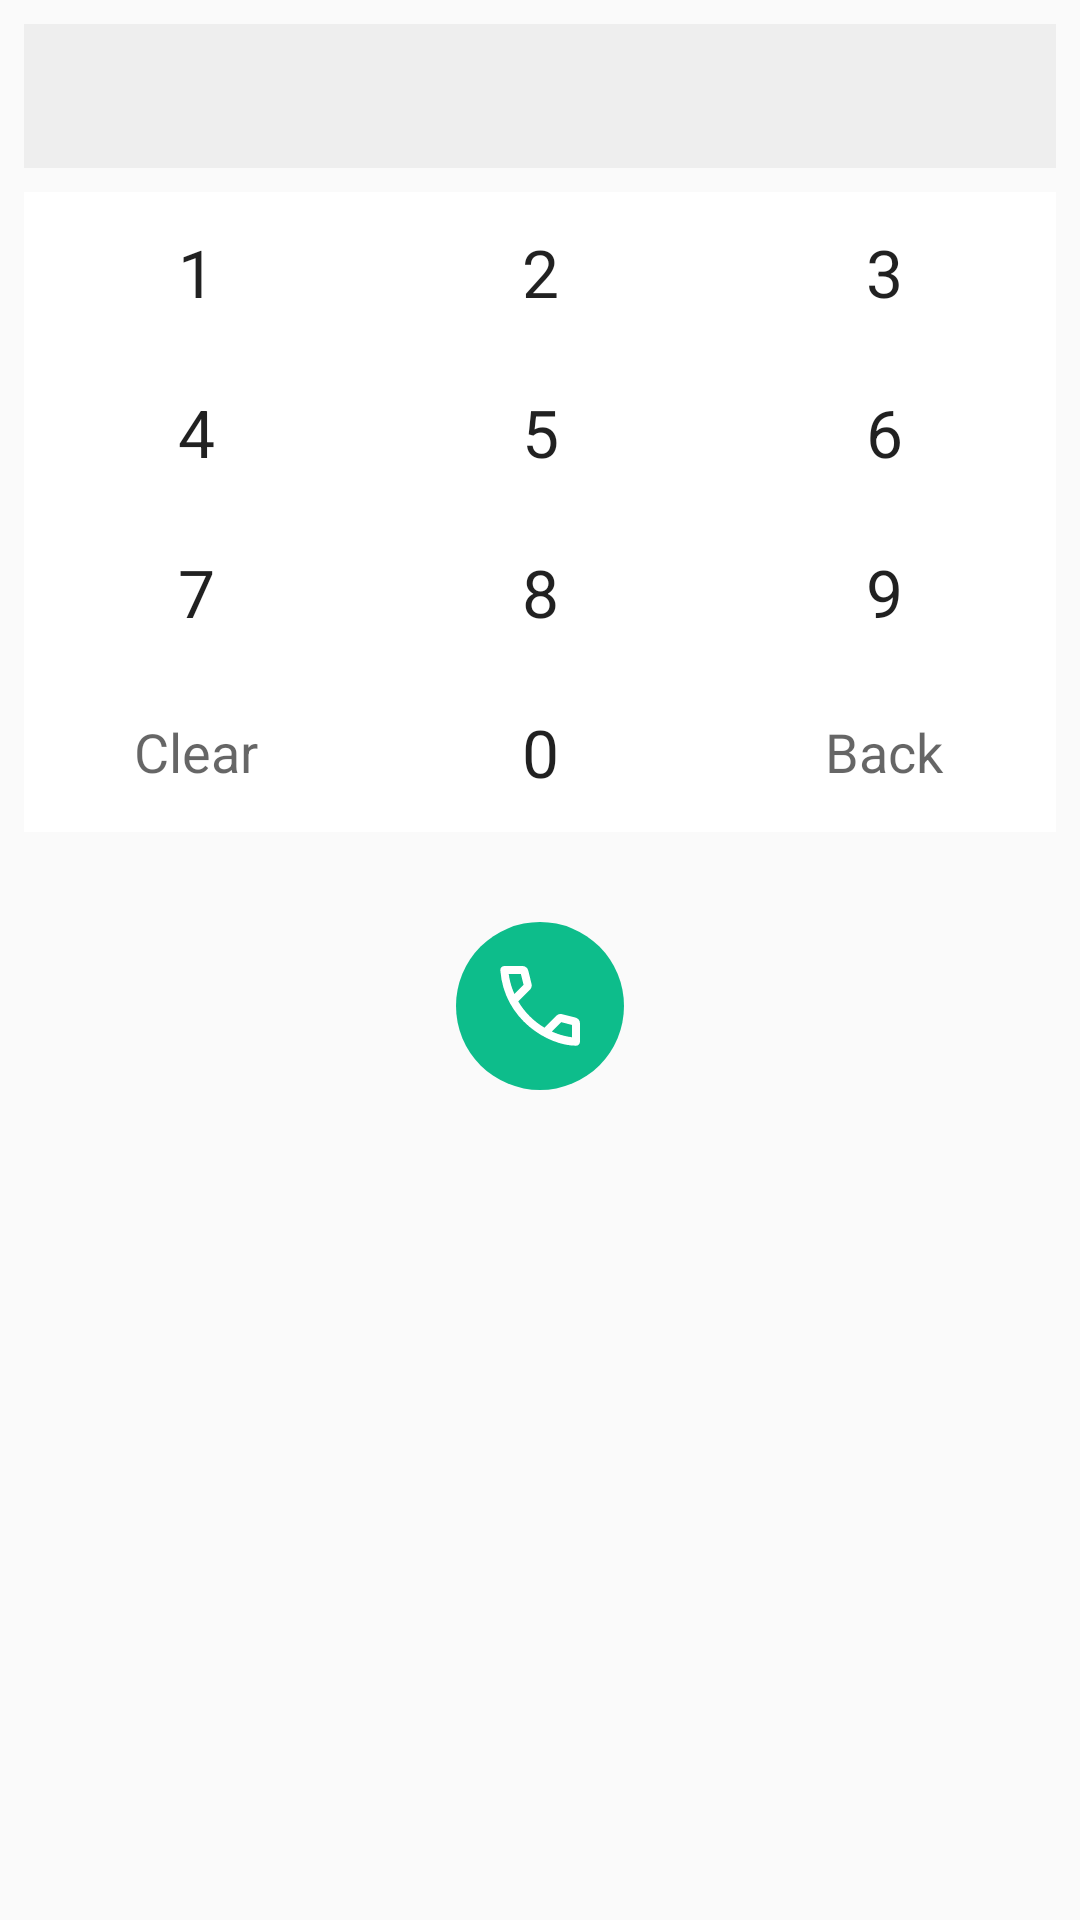

Where icons sit on this 1080x1920 app screen, as (x1, y1, x2, y2):
Accept: (456, 922, 624, 1090)
